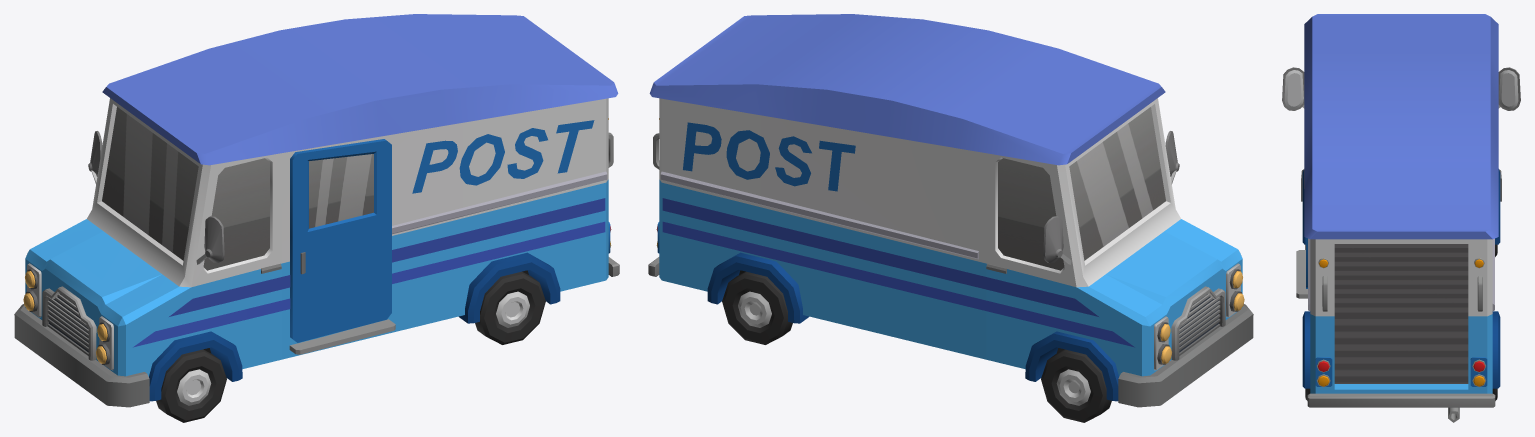
Rendered from PostCar_2_C.gltf.
3 renders of one model, left to right at view 1: azimuth 30°, elevation 25°; view 2: azimuth 150°, elevation 25°; view 3: azimuth 270°, elevation 25°, orthographic. The views are drawn at different scales.
Parts seen in each view (by area): view 1: PostCar_2_C, FL, RL; view 2: PostCar_2_C, FR, RR; view 3: PostCar_2_C.
Boxes of the visible parts, x1,y1,x2,y2 form: PostCar_2_C: [14, 14, 619, 407]; FL: [156, 349, 226, 422]; RL: [475, 271, 545, 344]; PostCar_2_C: [648, 14, 1253, 407]; FR: [1041, 349, 1111, 422]; RR: [722, 271, 792, 344]; PostCar_2_C: [1282, 14, 1520, 422].
Bounding box in the file's own units: 4.14 × 2.11 × 1.8.
5 materials, 5 textured.
